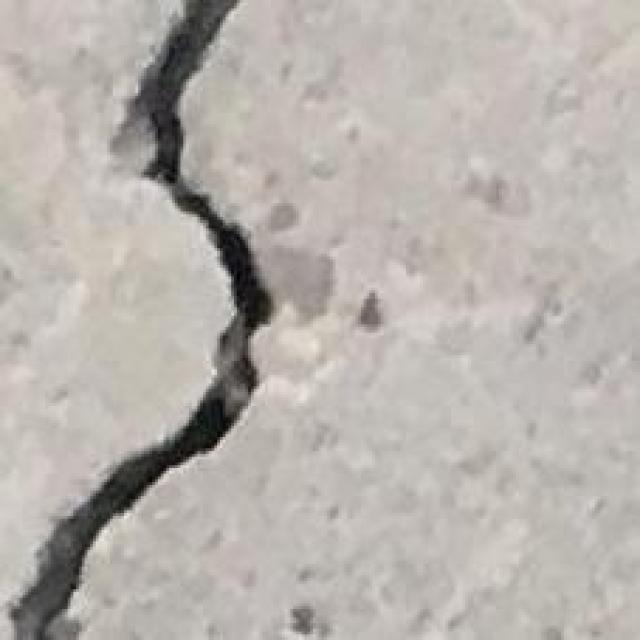Crack: (3, 3, 293, 640)
